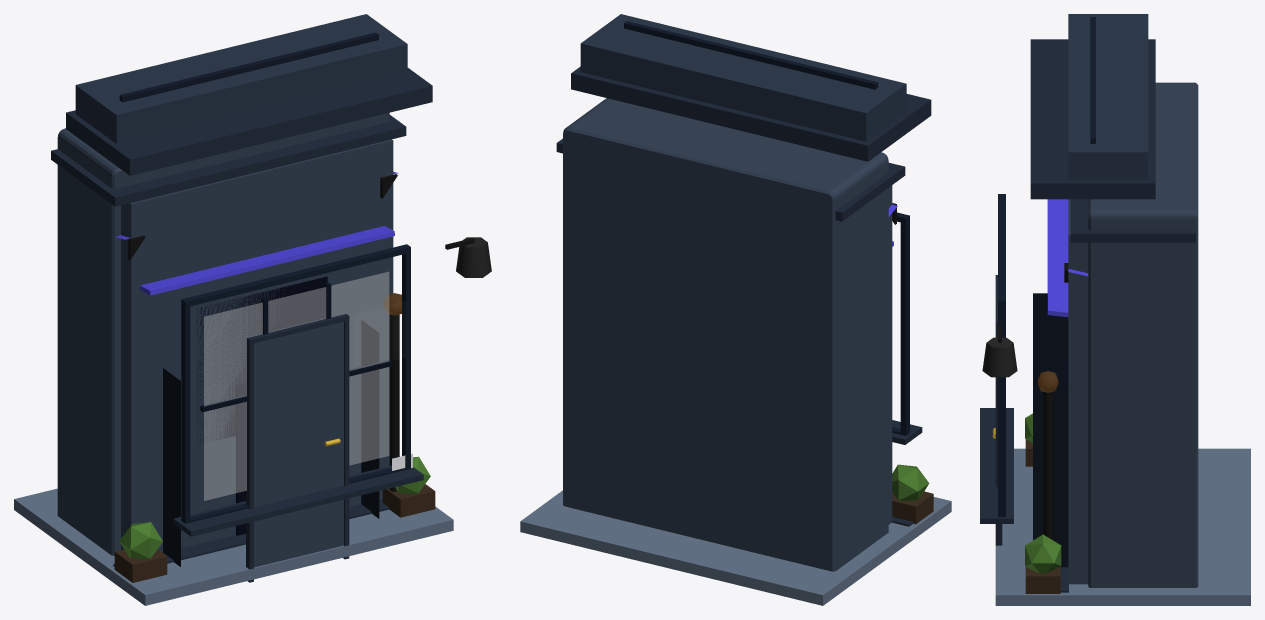
The model's file is classic.glb.
3 views of the same model, side by side, from view 1: azimuth 30°, elevation 25°; view 2: azimuth 150°, elevation 25°; view 3: azimuth 270°, elevation 25° (orthographic). The views are drawn at different scales.
Visible parts, largest first — view 1: object 33, Roof_Style, FacadeBody, Door_Leaf (×2), FacadeGlass, Trim, object 38, object 35, Interior_Recess, object 9, Door_Frame, Awning_Canopy (+12 smaller); view 2: object 33, FacadeBody, Roof_Style, Trim, Sign_Plane, object 7, object 38, Foliage_Left, Planter_Left; view 3: FacadeBody, Roof_Style, Trim, object 33, Interior_Recess, object 9, Awning_Canopy, object 38, Lantern_Housing (×2), object 39, object 8, Foliage_Right (+4 smaller).
Part boxes in pixels (bbox=[...]): object 33: bbox=[121, 139, 393, 552]; Roof_Style: bbox=[66, 14, 432, 175]; FacadeBody: bbox=[57, 112, 389, 555]; Door_Leaf (×2): bbox=[236, 321, 343, 567]; FacadeGlass: bbox=[204, 272, 388, 500]; Trim: bbox=[14, 488, 453, 605]; object 38: bbox=[51, 115, 406, 206]; object 35: bbox=[196, 276, 327, 444]; Interior_Recess: bbox=[163, 320, 379, 566]; object 9: bbox=[173, 465, 423, 536]; Door_Frame: bbox=[246, 313, 349, 582]; Awning_Canopy: bbox=[140, 226, 394, 295]; object 33: bbox=[569, 156, 892, 570]; FacadeBody: bbox=[563, 98, 888, 571]; Roof_Style: bbox=[571, 14, 931, 161]; Trim: bbox=[520, 490, 951, 605]; Sign_Plane: bbox=[624, 21, 878, 89]; object 7: bbox=[900, 215, 909, 433]; object 38: bbox=[556, 138, 905, 221]; Foliage_Left: bbox=[892, 464, 929, 501]; Planter_Left: bbox=[892, 491, 933, 524]; FacadeBody: bbox=[1088, 82, 1198, 587]; Roof_Style: bbox=[1030, 14, 1155, 199]; Trim: bbox=[995, 448, 1250, 605]; object 33: bbox=[1068, 199, 1088, 584]; Interior_Recess: bbox=[1033, 293, 1068, 567]; object 9: bbox=[980, 408, 1013, 523]; Awning_Canopy: bbox=[1047, 199, 1068, 317]; object 38: bbox=[1070, 199, 1195, 242]; Lantern_Housing (×2): bbox=[982, 337, 1058, 392]; object 39: bbox=[1043, 392, 1052, 539]; object 8: bbox=[998, 298, 1005, 516]; Foliage_Right: bbox=[1025, 534, 1061, 573].
Size of the model in its own units: 3.98 by 5.17 by 2.78.
